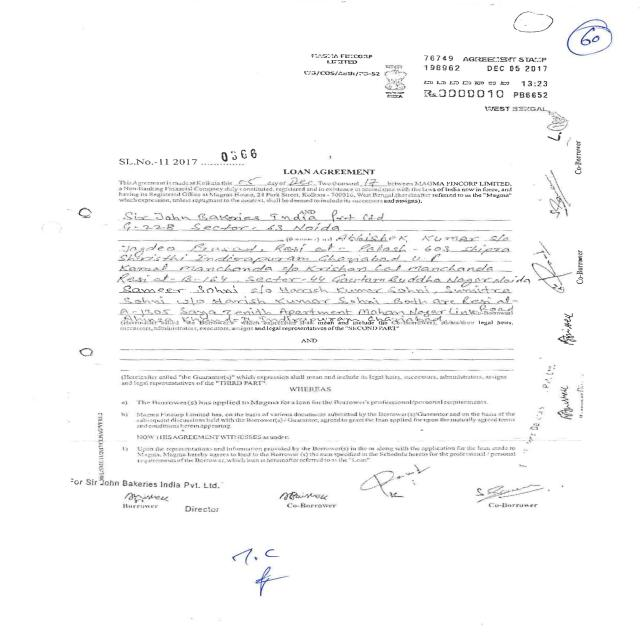page-number: (559, 0, 640, 87)
